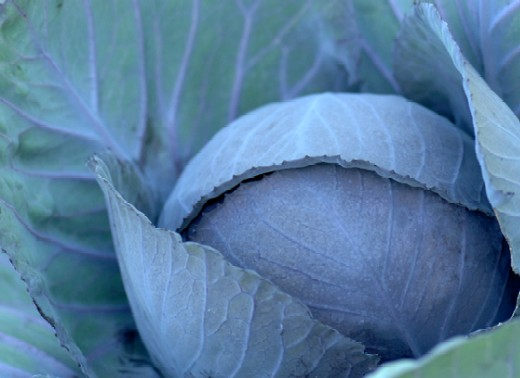cabbage: (127, 90, 511, 377)
